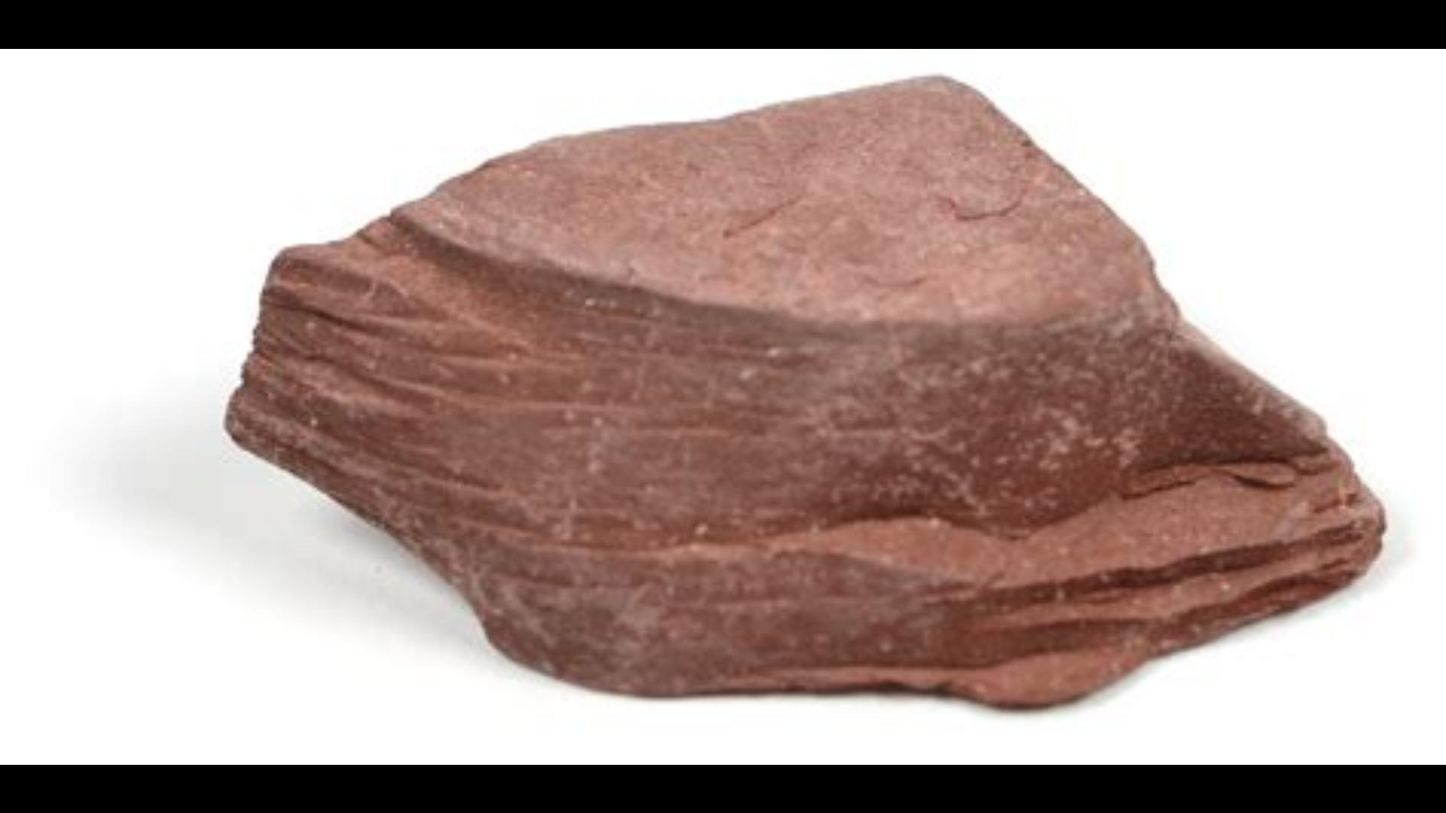rock: (226, 79, 1382, 698)
